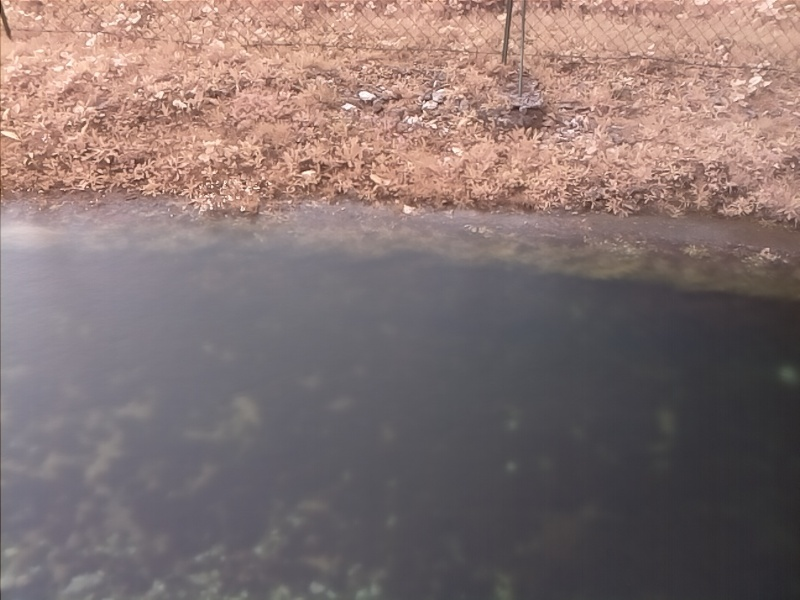Water: (2, 191, 800, 599)
